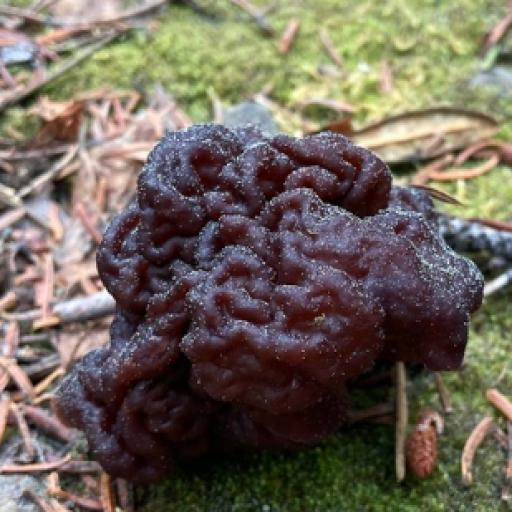False Morel: (23, 70, 512, 488)
